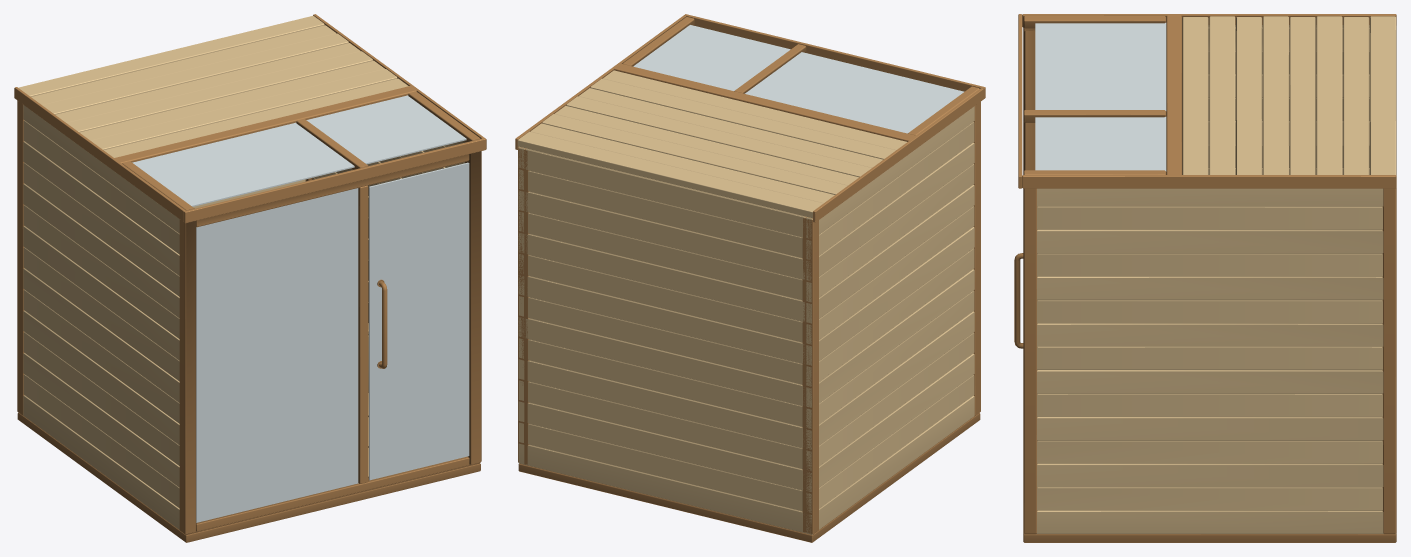
Rendered from sauna.glb.
3 views of the same model, side by side, from view 1: azimuth 30°, elevation 25°; view 2: azimuth 150°, elevation 25°; view 3: azimuth 270°, elevation 25° (orthographic). The views are drawn at different scales.
Visible parts, largest first — view 1: cabin, door; view 2: cabin; view 3: cabin, door.
Part boxes in pixels (x1,y1,x2,y2): cabin: (14,14,486,542); door: (369,162,469,480); cabin: (515,14,985,542); cabin: (1018,14,1396,542); door: (1014,253,1023,348).
Bounding box in the file's own units: 1.94 × 2.05 × 1.92.
